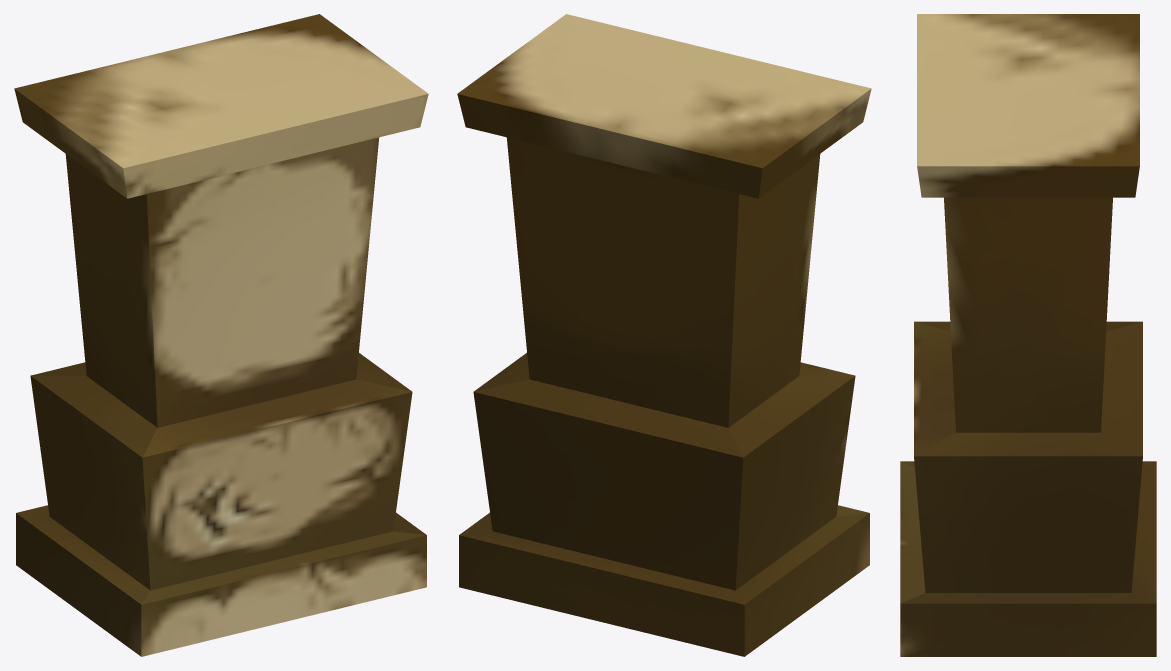
The model's file is Rome_Village_Props_17.FBX.
The picture shows the model from 3 angles, left to right: view 1: azimuth 30°, elevation 25°; view 2: azimuth 150°, elevation 25°; view 3: azimuth 270°, elevation 25°; orthographic projection. The views are drawn at different scales.
Visible parts, largest first — view 1: Rome_Village_Props_17; view 2: Rome_Village_Props_17; view 3: Rome_Village_Props_17.
Boxes of the visible parts, box(x1,y1,x2,y2) form: Rome_Village_Props_17: box(14, 14, 428, 656); Rome_Village_Props_17: box(457, 14, 871, 656); Rome_Village_Props_17: box(900, 14, 1156, 656).
Size of the model in its own units: 48.7 by 73.93 by 34.67.
